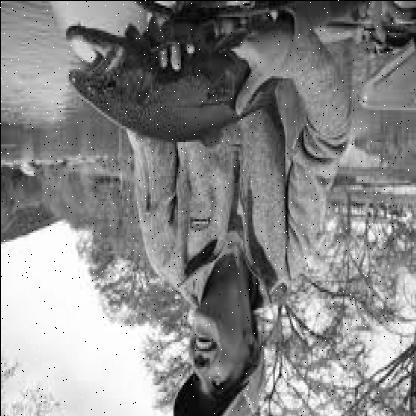fish: (69, 36, 298, 150)
